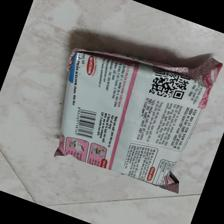Haohao: (50, 48, 224, 195)
